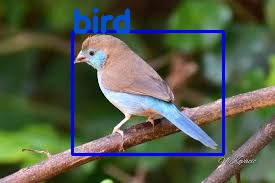bird: (72, 30, 223, 153)
